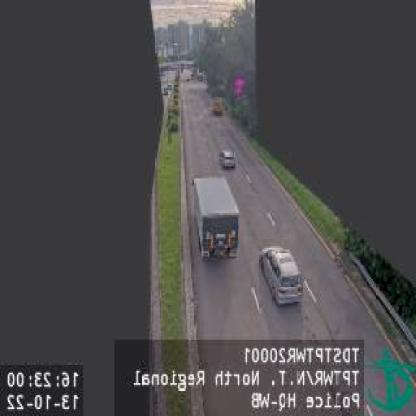Car: (259, 244, 303, 306), (219, 148, 236, 167), (213, 96, 224, 115)
Truck: (193, 178, 240, 264)
